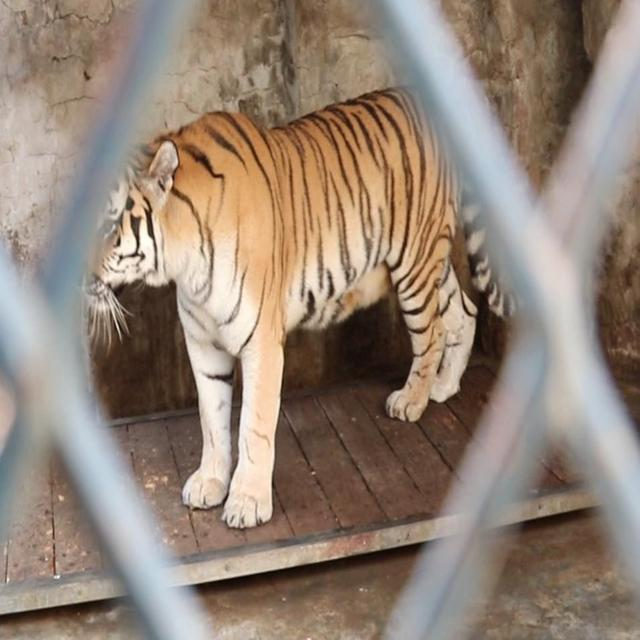tiger: (69, 80, 537, 538)
